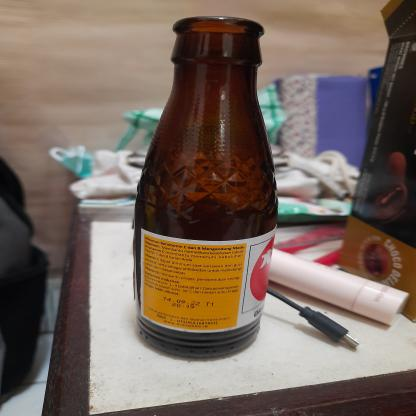keyboard: (124, 12, 282, 363)
